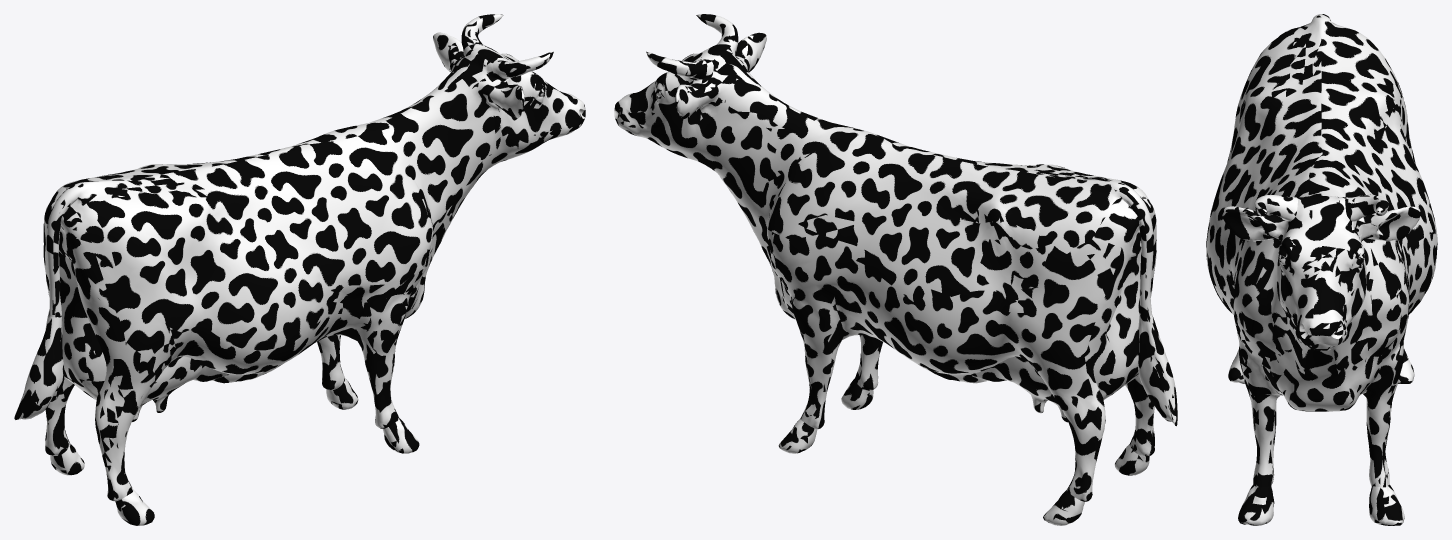
Rendered from cow.obj.
3 views of the same model, side by side, from view 1: azimuth 30°, elevation 25°; view 2: azimuth 150°, elevation 25°; view 3: azimuth 270°, elevation 25° (orthographic). The views are drawn at different scales.
Visible parts, largest first — view 1: cow; view 2: cow; view 3: cow.
Boxes of the visible parts, left/top/right/bottom form: cow: left=14, top=14, right=585, bottom=525; cow: left=614, top=14, right=1177, bottom=525; cow: left=1206, top=14, right=1437, bottom=525.
Size of the model in its own units: 21.66 by 13.29 by 6.99.
1 material, 1 textured.
